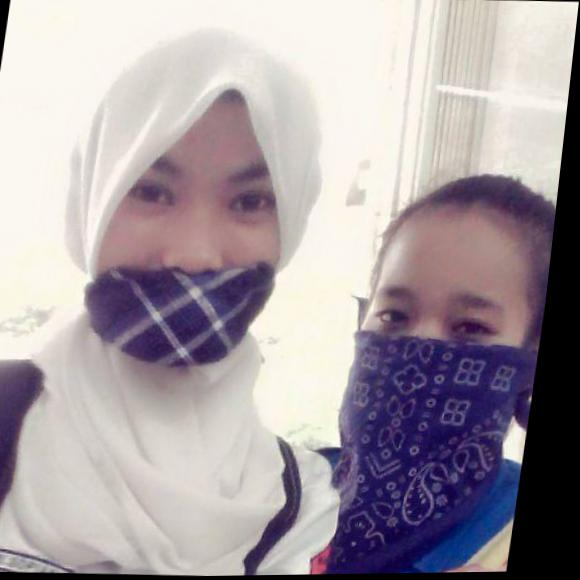OK: (351, 273, 550, 458)
WRONG: (81, 145, 309, 358)
